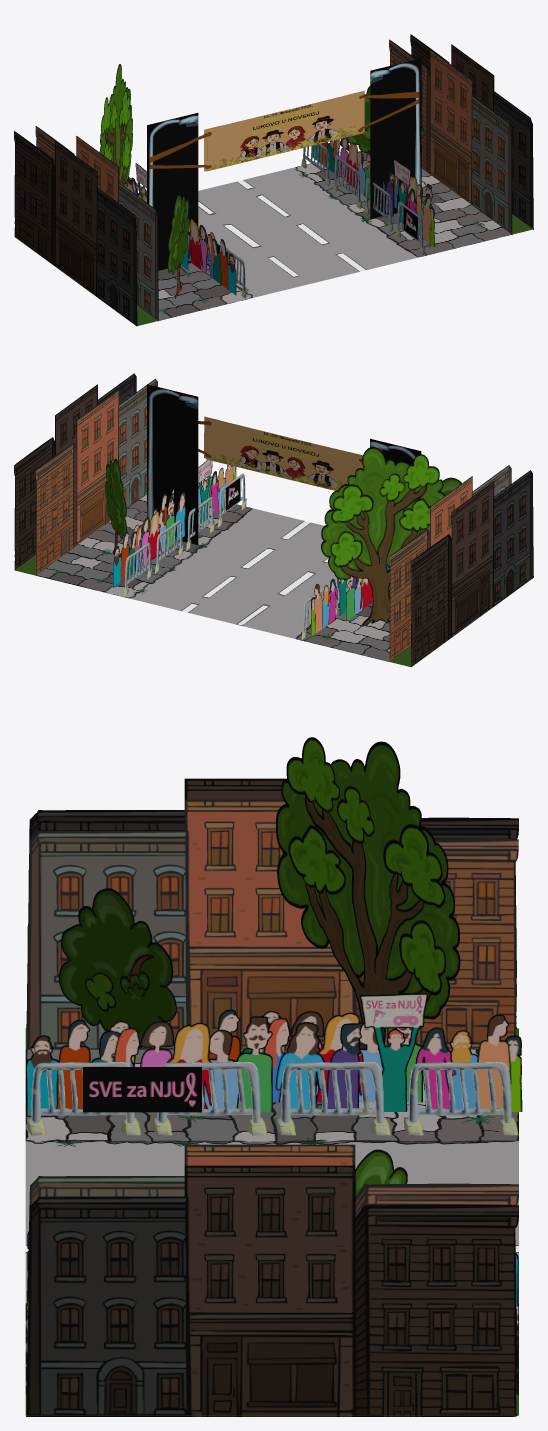
Rendered from Scene3_backface.fbx.
The picture shows the model from 3 angles, top to bottom: view 1: azimuth 30°, elevation 25°; view 2: azimuth 150°, elevation 25°; view 3: azimuth 270°, elevation 25°; orthographic projection. The views are drawn at different scales.
Parts seen in each view (by area): view 1: Road.003, Buildings2-Dark-L.001, Buildings2-Light-R, Banner, Lamp-Post-R.002, Lamp-Post-L.002, Buildings2-Light-L.002, Buildings2-Dark-R, Tree-Big.001, crowd.010, crowd2.005, crowd.009 (+7 smaller); view 2: Road.003, Buildings2-Dark-L.001, Buildings2-Light-R, Tree-Big.001, Lamp-Post-R.002, Banner, Buildings2-Light-L.002, Buildings2-Dark-R, crowd.009, crowd2.005, crowd2.004, Tree.008 (+7 smaller); view 3: Buildings2-Dark-R, Buildings2-Light-L.002, Tree-Big.001, Road.003, crowd2.004, Tree.004, crowd.010, Buildings2-Light-R, Buildings2-Dark-L.001, Logo_sznj.002, crowd.011, Fence-L.011 (+4 smaller).
Boxes of the visible parts, bbox=[...] form: Road.003: bbox=[23, 151, 533, 325]; Buildings2-Dark-L.001: bbox=[14, 131, 137, 326]; Buildings2-Light-R: bbox=[389, 39, 512, 234]; Banner: bbox=[149, 90, 419, 171]; Lamp-Post-R.002: bbox=[370, 58, 421, 218]; Lamp-Post-L.002: bbox=[147, 113, 198, 270]; Buildings2-Light-L.002: bbox=[35, 126, 158, 321]; Buildings2-Dark-R: bbox=[410, 34, 533, 229]; Tree-Big.001: bbox=[99, 64, 132, 185]; crowd.010: bbox=[187, 218, 236, 295]; crowd2.005: bbox=[383, 159, 434, 246]; crowd.009: bbox=[312, 137, 370, 198]; Road.003: bbox=[14, 494, 524, 666]; Buildings2-Dark-L.001: bbox=[410, 470, 533, 666]; Buildings2-Light-R: bbox=[35, 378, 157, 574]; Tree-Big.001: bbox=[321, 447, 445, 626]; Lamp-Post-R.002: bbox=[147, 384, 198, 544]; Banner: bbox=[198, 416, 363, 490]; Buildings2-Light-L.002: bbox=[389, 465, 511, 660]; Buildings2-Dark-R: bbox=[14, 373, 136, 569]; crowd.009: bbox=[113, 496, 174, 587]; crowd2.005: bbox=[175, 460, 236, 541]; crowd2.004: bbox=[311, 577, 361, 636]; Tree.008: bbox=[105, 459, 126, 554]; Buildings2-Dark-R: bbox=[26, 1165, 518, 1416]; Buildings2-Light-L.002: bbox=[26, 799, 518, 1049]; Tree-Big.001: bbox=[276, 737, 460, 1048]; Road.003: bbox=[25, 1028, 518, 1415]; crowd2.004: bbox=[275, 993, 522, 1111]; Tree.004: bbox=[58, 888, 177, 1048]; crowd.010: bbox=[26, 1016, 272, 1112]; Buildings2-Light-R: bbox=[26, 1144, 518, 1394]; Buildings2-Dark-L.001: bbox=[26, 778, 518, 1028]; Logo_sznj.002: bbox=[83, 1067, 201, 1112]; crowd.011: bbox=[209, 1009, 422, 1102]; Fence-L.011: bbox=[404, 1062, 518, 1135].
Bounding box in the file's own units: 1115 × 480 × 604.
Materials: 17 (16 with a texture image).
